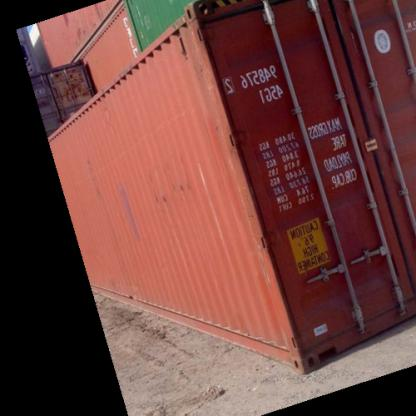Damage: (116, 177, 141, 249), (147, 178, 198, 211), (83, 152, 104, 206), (100, 106, 120, 133)
